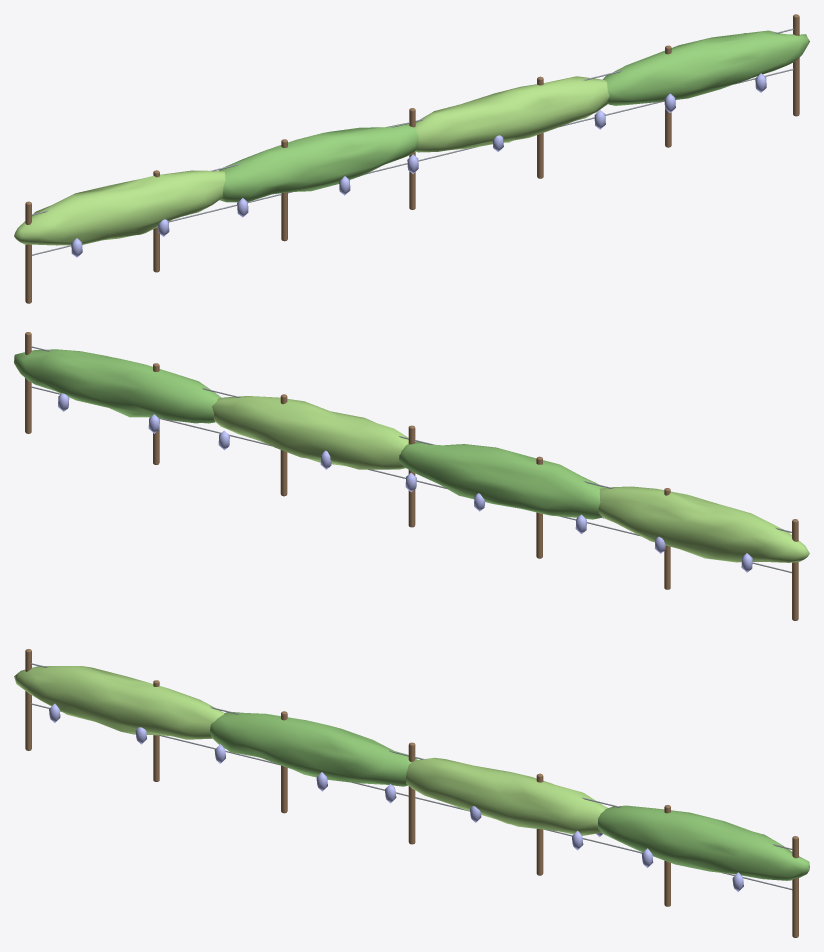
The model's file is vine_row.fbx.
3 renders of one model, top to bottom at view 1: azimuth 30°, elevation 25°; view 2: azimuth 150°, elevation 25°; view 3: azimuth 330°, elevation 25°, orthographic.
Parts seen in each view (by area): view 1: Visual; view 2: Visual; view 3: Visual.
Part boxes in pixels (box(x1,y1,x2,y2)): Visual: box(14, 14, 809, 303); Visual: box(14, 332, 809, 620); Visual: box(14, 649, 809, 937).
Size of the model in its own units: 1245 by 150 by 74.95.
